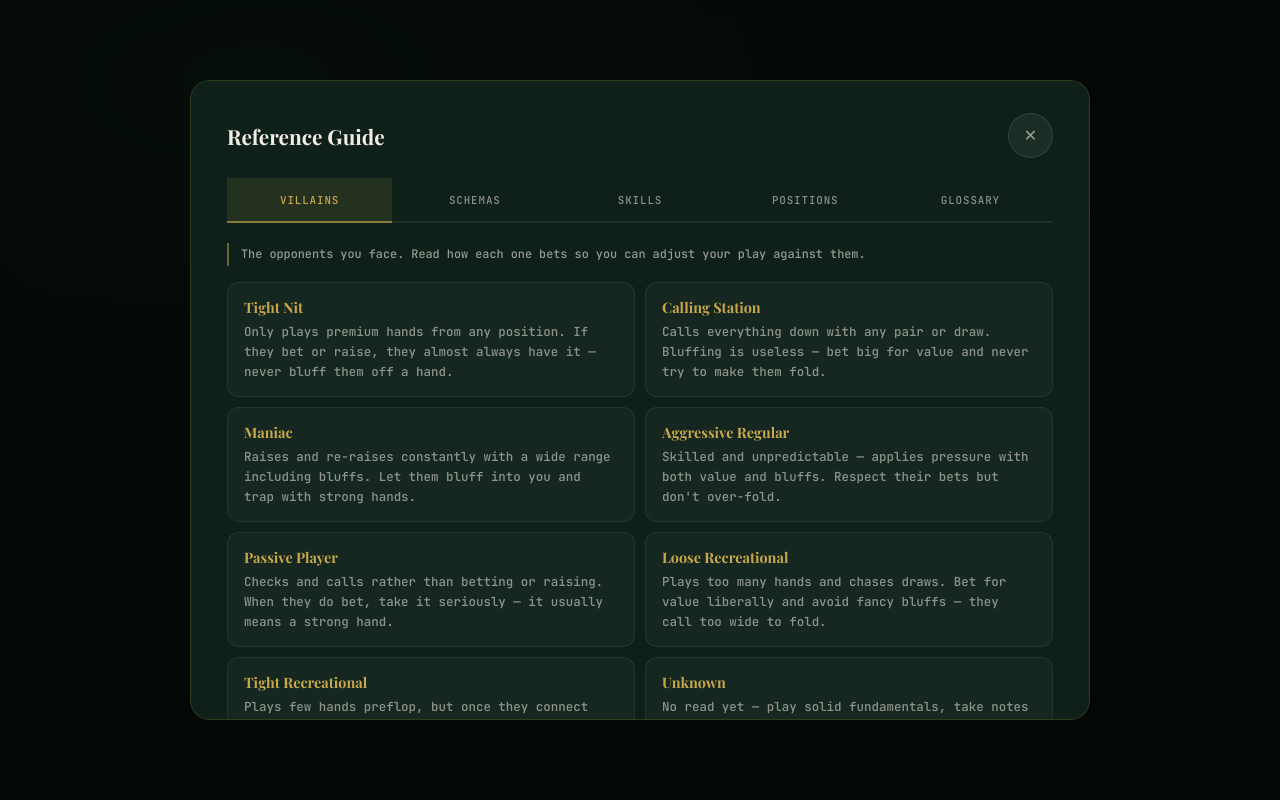
skills tab › shows the player's own rating on each skill
Click the button "Skills": point(640, 200) [557, 178, 723, 223]
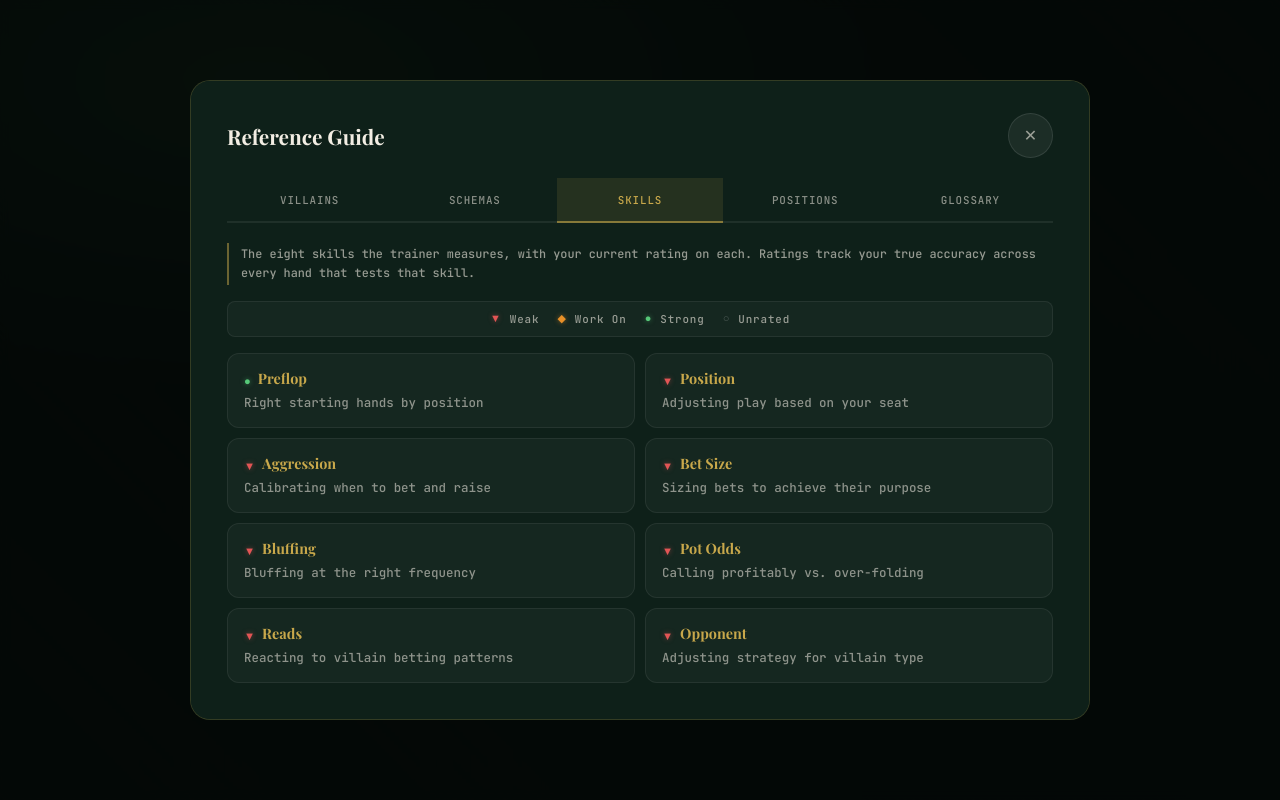
expect the text "●" next to "Preflop" is shown: met, box [244, 373, 251, 388]
expect the 2nd text "▼" is shown: met, box [662, 373, 673, 388]
